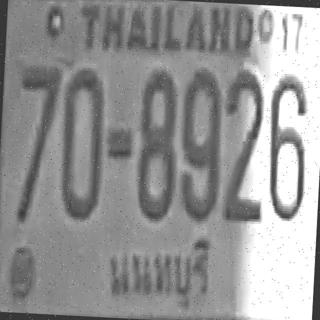N00: (57, 66, 106, 219)
N02: (220, 68, 267, 222)
N06: (264, 70, 309, 219)
N07: (14, 62, 59, 221)
N08: (134, 68, 179, 220)
N09: (176, 67, 222, 218)
P37: (101, 231, 213, 314)
